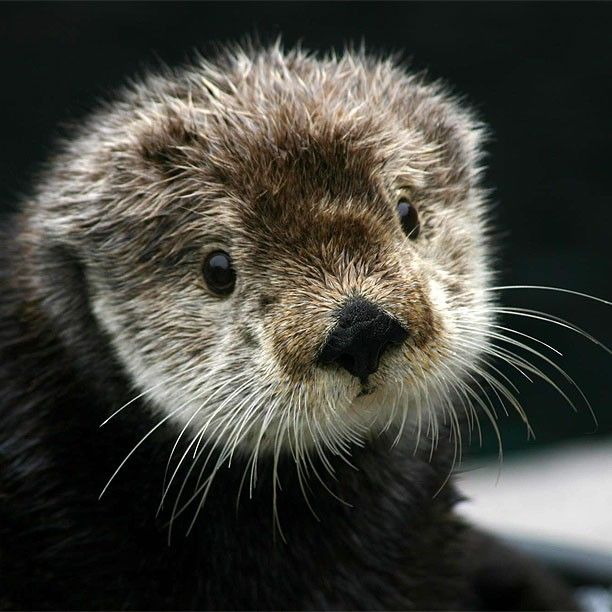otter: (21, 28, 537, 612)
